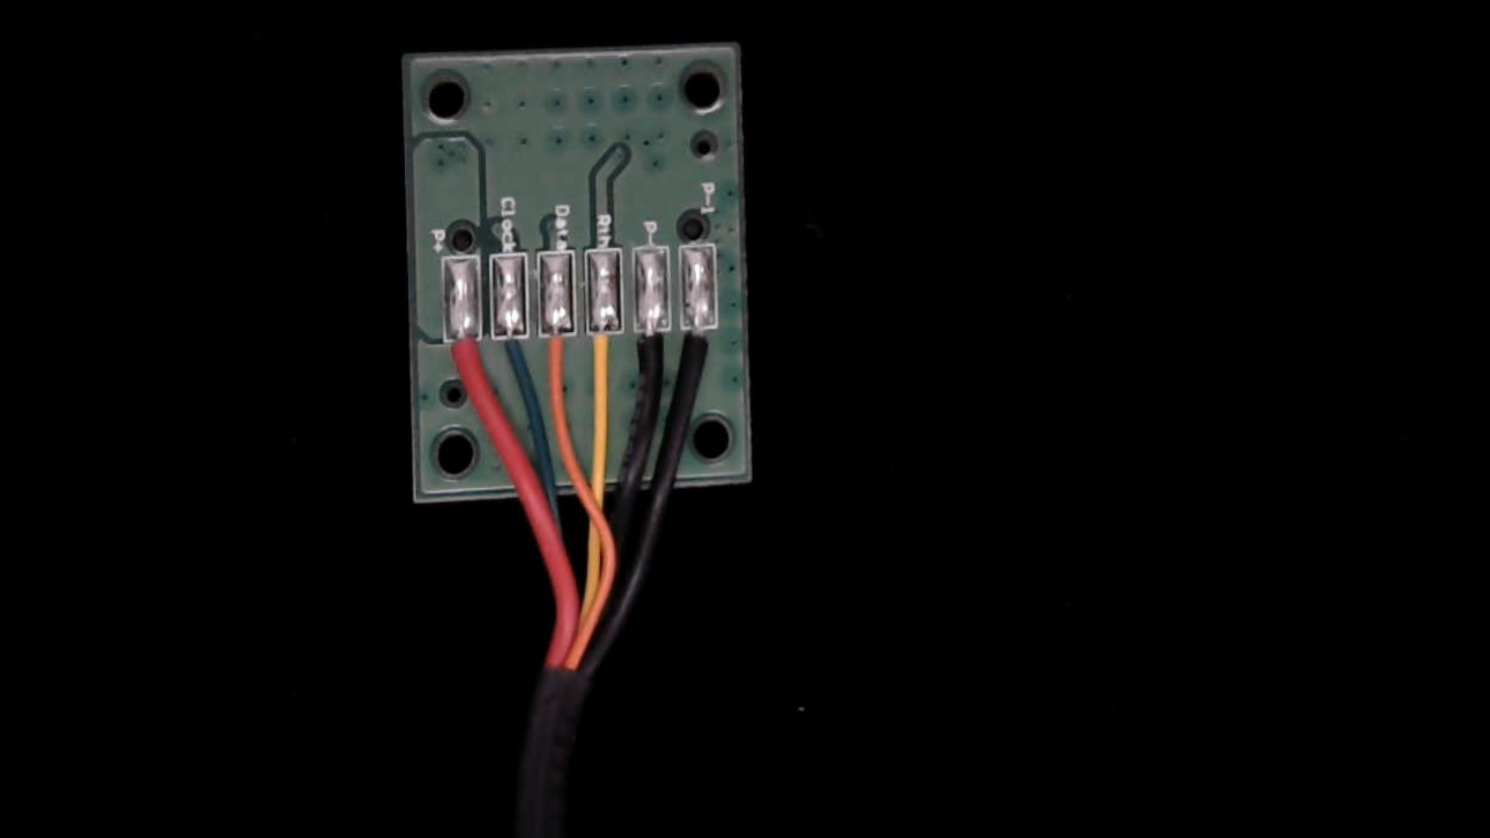Black: (633, 304, 672, 396)
Black1: (682, 307, 720, 397)
Green: (494, 313, 531, 396)
Orange: (540, 308, 575, 393)
Red: (446, 316, 483, 405)
Yellow: (587, 304, 624, 396)
